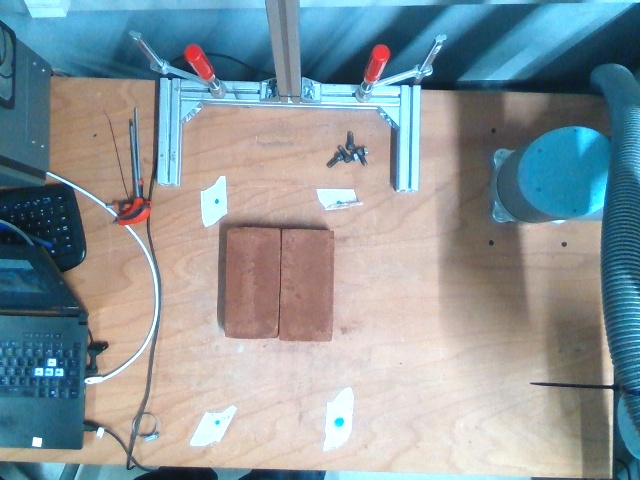brick: (279, 231, 335, 341), (226, 229, 281, 339)
